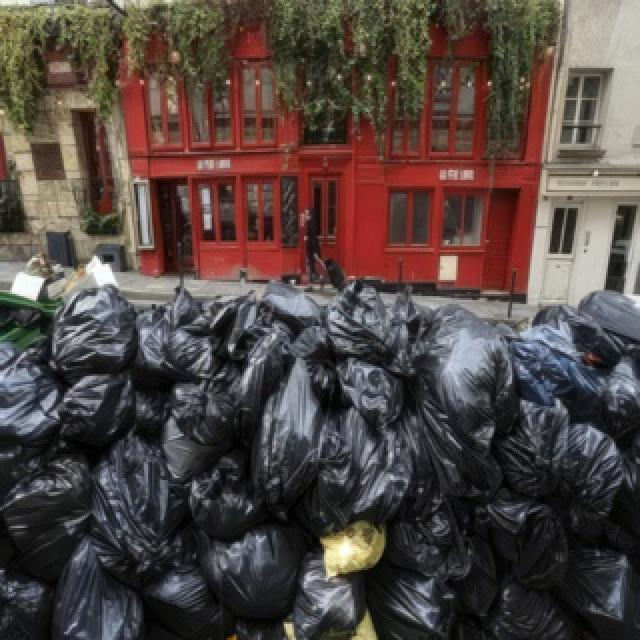Trashbag: (396, 424, 498, 574), (91, 432, 173, 568), (316, 400, 407, 522), (418, 304, 511, 417), (252, 366, 326, 504), (127, 284, 224, 382), (208, 526, 301, 618), (51, 548, 141, 640), (489, 400, 576, 495), (502, 326, 601, 409), (12, 459, 86, 565), (52, 364, 141, 448), (489, 500, 574, 585), (152, 534, 224, 634), (555, 426, 622, 530), (479, 565, 571, 640), (330, 286, 420, 362), (181, 464, 260, 549), (56, 290, 136, 372), (154, 391, 234, 472), (0, 344, 63, 440), (375, 564, 453, 640), (566, 543, 628, 637), (292, 561, 365, 632), (343, 346, 408, 414), (580, 284, 639, 349), (597, 352, 640, 433), (263, 280, 322, 330), (525, 300, 590, 333)
